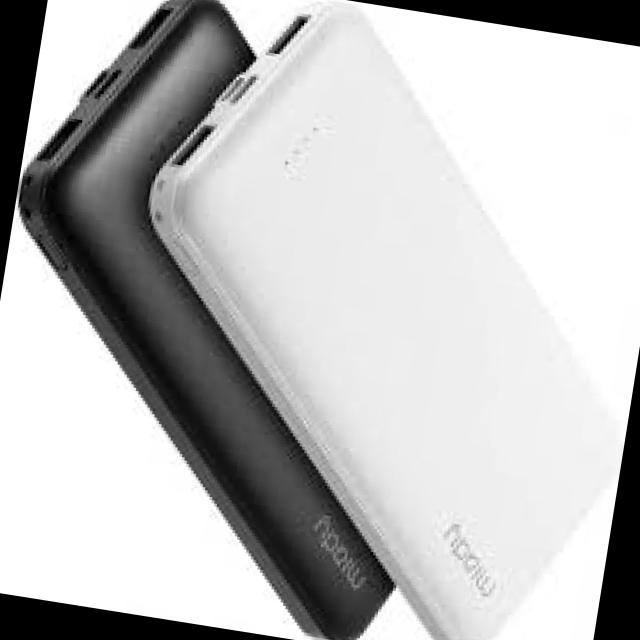portable-charger: (82, 0, 640, 640), (0, 0, 488, 640)
